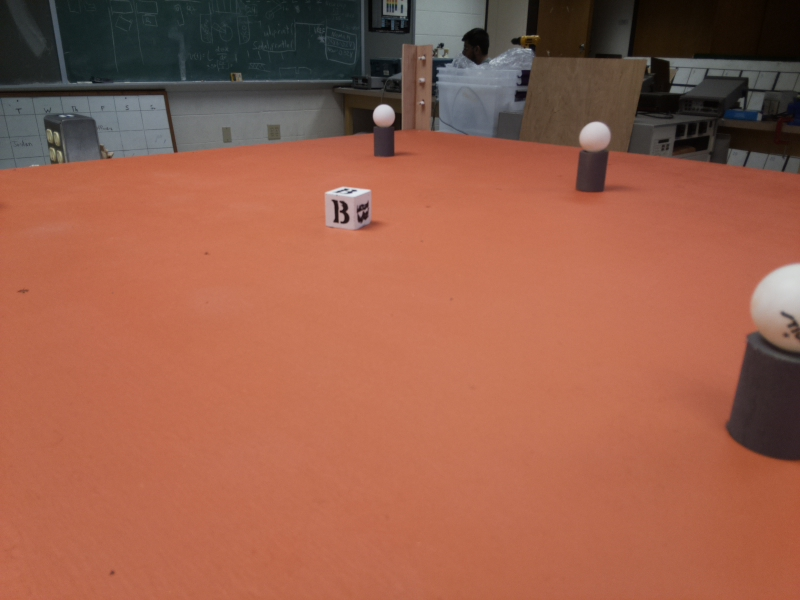blockB: (325, 180, 373, 231)
corner: (403, 44, 432, 131)
obstacle: (735, 256, 800, 472), (575, 119, 611, 201), (371, 102, 393, 159)
